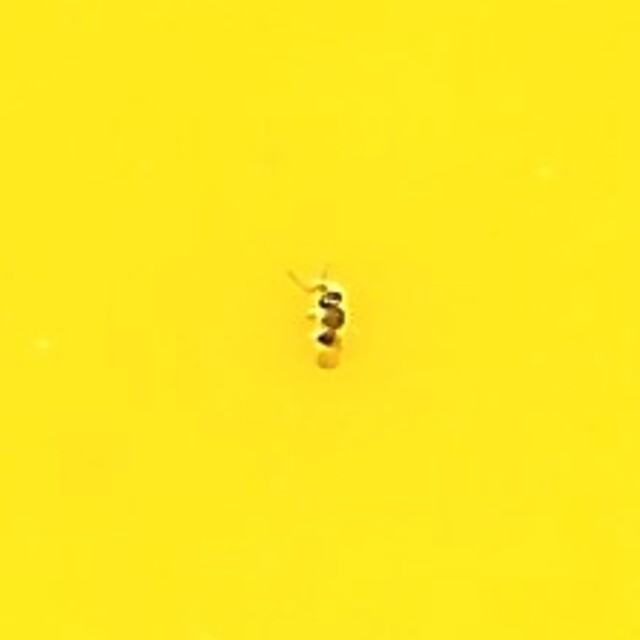Hymenoptera: (290, 263, 350, 377)
